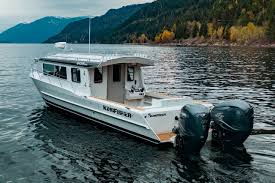boat: (30, 51, 255, 153)
